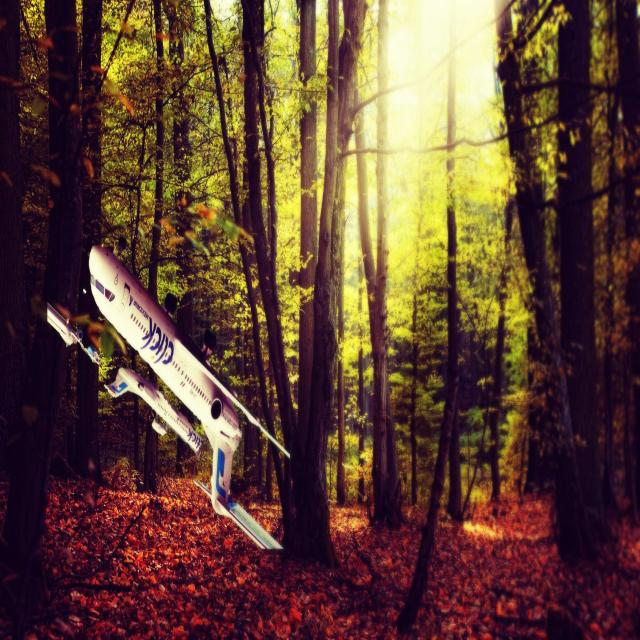airplane: (87, 243, 290, 552)
